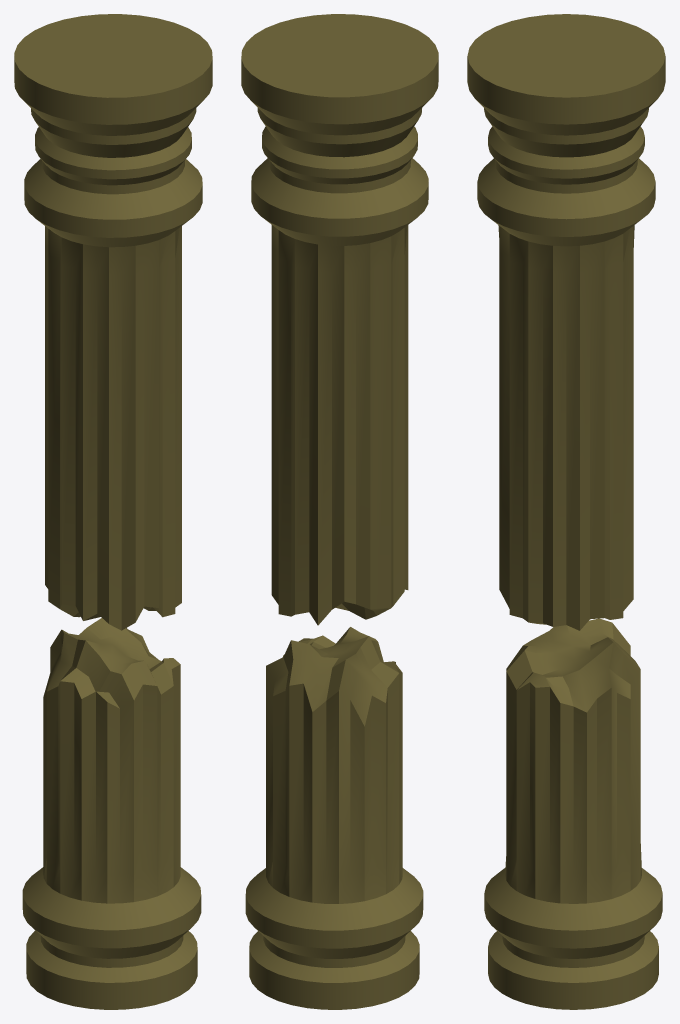
Rendered from column_broken.fbx.
3 views of the same model, side by side, from view 1: azimuth 30°, elevation 25°; view 2: azimuth 150°, elevation 25°; view 3: azimuth 270°, elevation 25° (orthographic).
Parts seen in each view (by area): view 1: Column_Broken_Top, Column_Broken_Bottom; view 2: Column_Broken_Top, Column_Broken_Bottom; view 3: Column_Broken_Top, Column_Broken_Bottom.
Boxes of the visible parts, left/top/right/bottom form: Column_Broken_Top: left=14, top=14, right=212, bottom=630; Column_Broken_Bottom: left=22, top=618, right=201, bottom=1009; Column_Broken_Top: left=241, top=14, right=438, bottom=625; Column_Broken_Bottom: left=245, top=627, right=423, bottom=1009; Column_Broken_Top: left=467, top=14, right=665, bottom=630; Column_Broken_Bottom: left=484, top=618, right=662, bottom=1009.
Size of the model in its own units: 171 by 873 by 171.
